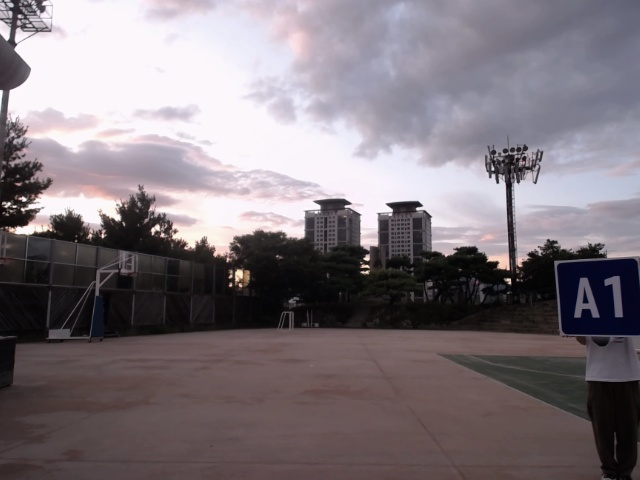delivery_a1: (555, 256, 639, 336)
